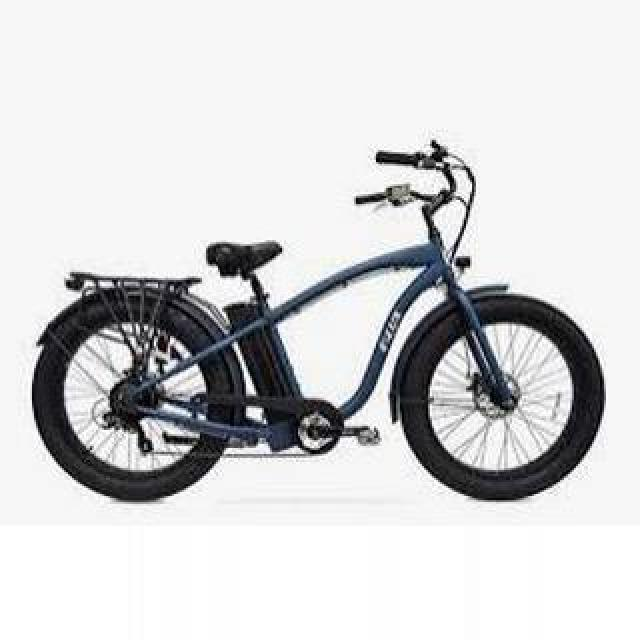Person: (24, 134, 628, 506)
